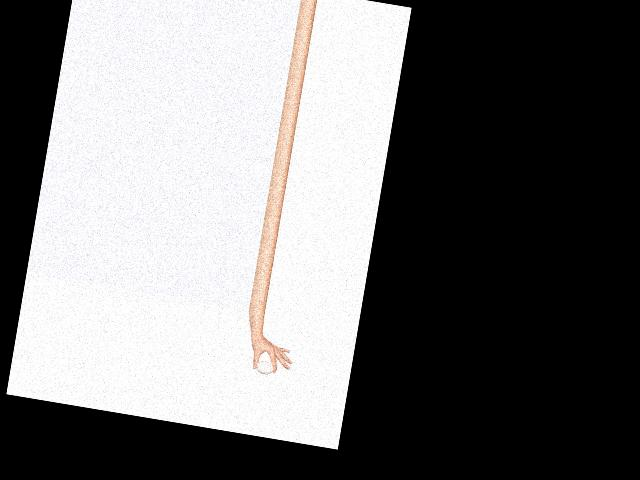egg: (255, 359, 274, 376)
